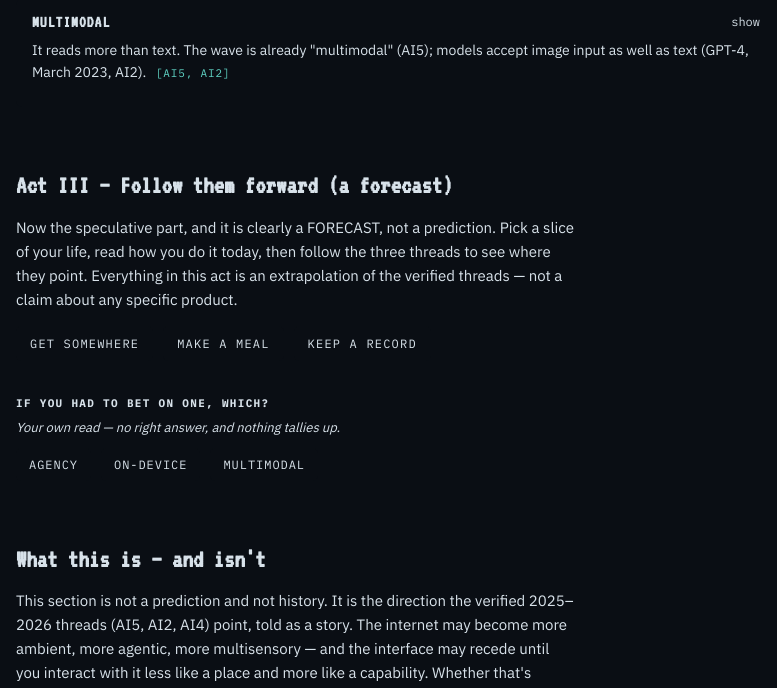
Test: FutureScene (Road Ahead story) › hides the forecast until the reader follows the threads after picking a slice
(page scrolled)
Click the button "GET SOMEWHERE". click: coordinates (85, 343)
box: [16,326,153,361]
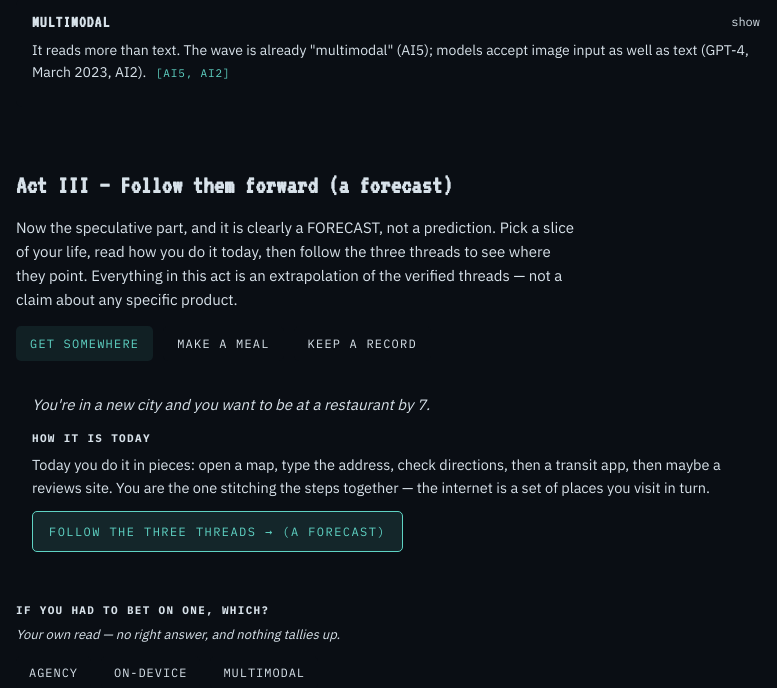
Expected: the text "WHERE THE THREADS POINT" is not shown
Expected: the heading "HOW IT IS TODAY" is shown, [32,431,151,445]
Click the button "FOLLOW THE THREE THREADS → (a forecast)". click: coordinates (218, 532)
box: [32,511,403,552]
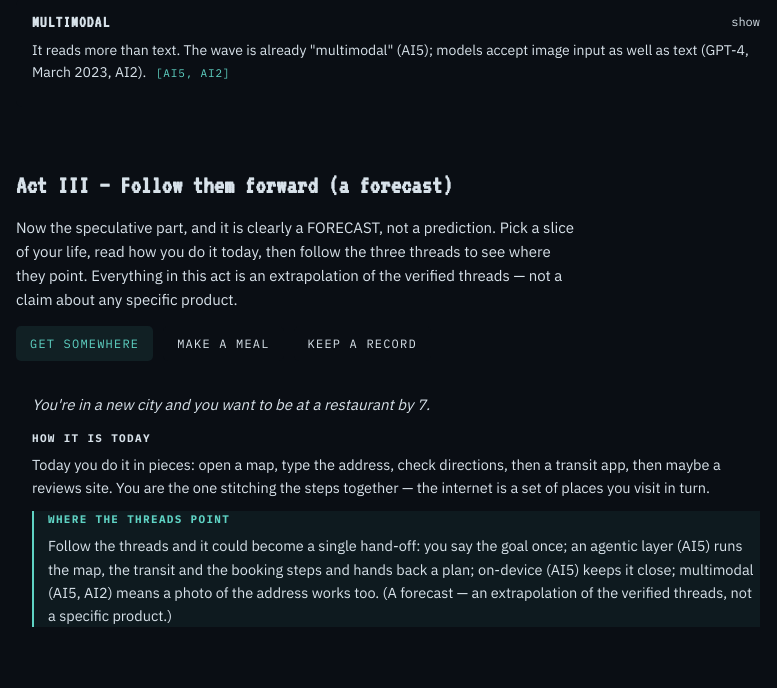
Expected: the heading "WHERE THE THREADS POINT" is shown, [48,512,230,526]
